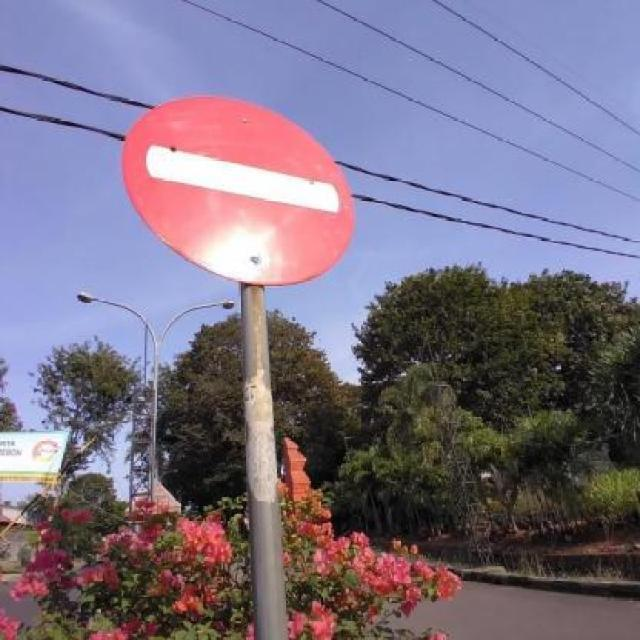no entry: (122, 91, 358, 283)
